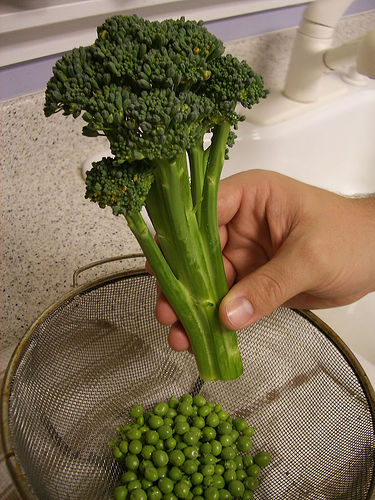broccoli: (43, 13, 268, 385)
